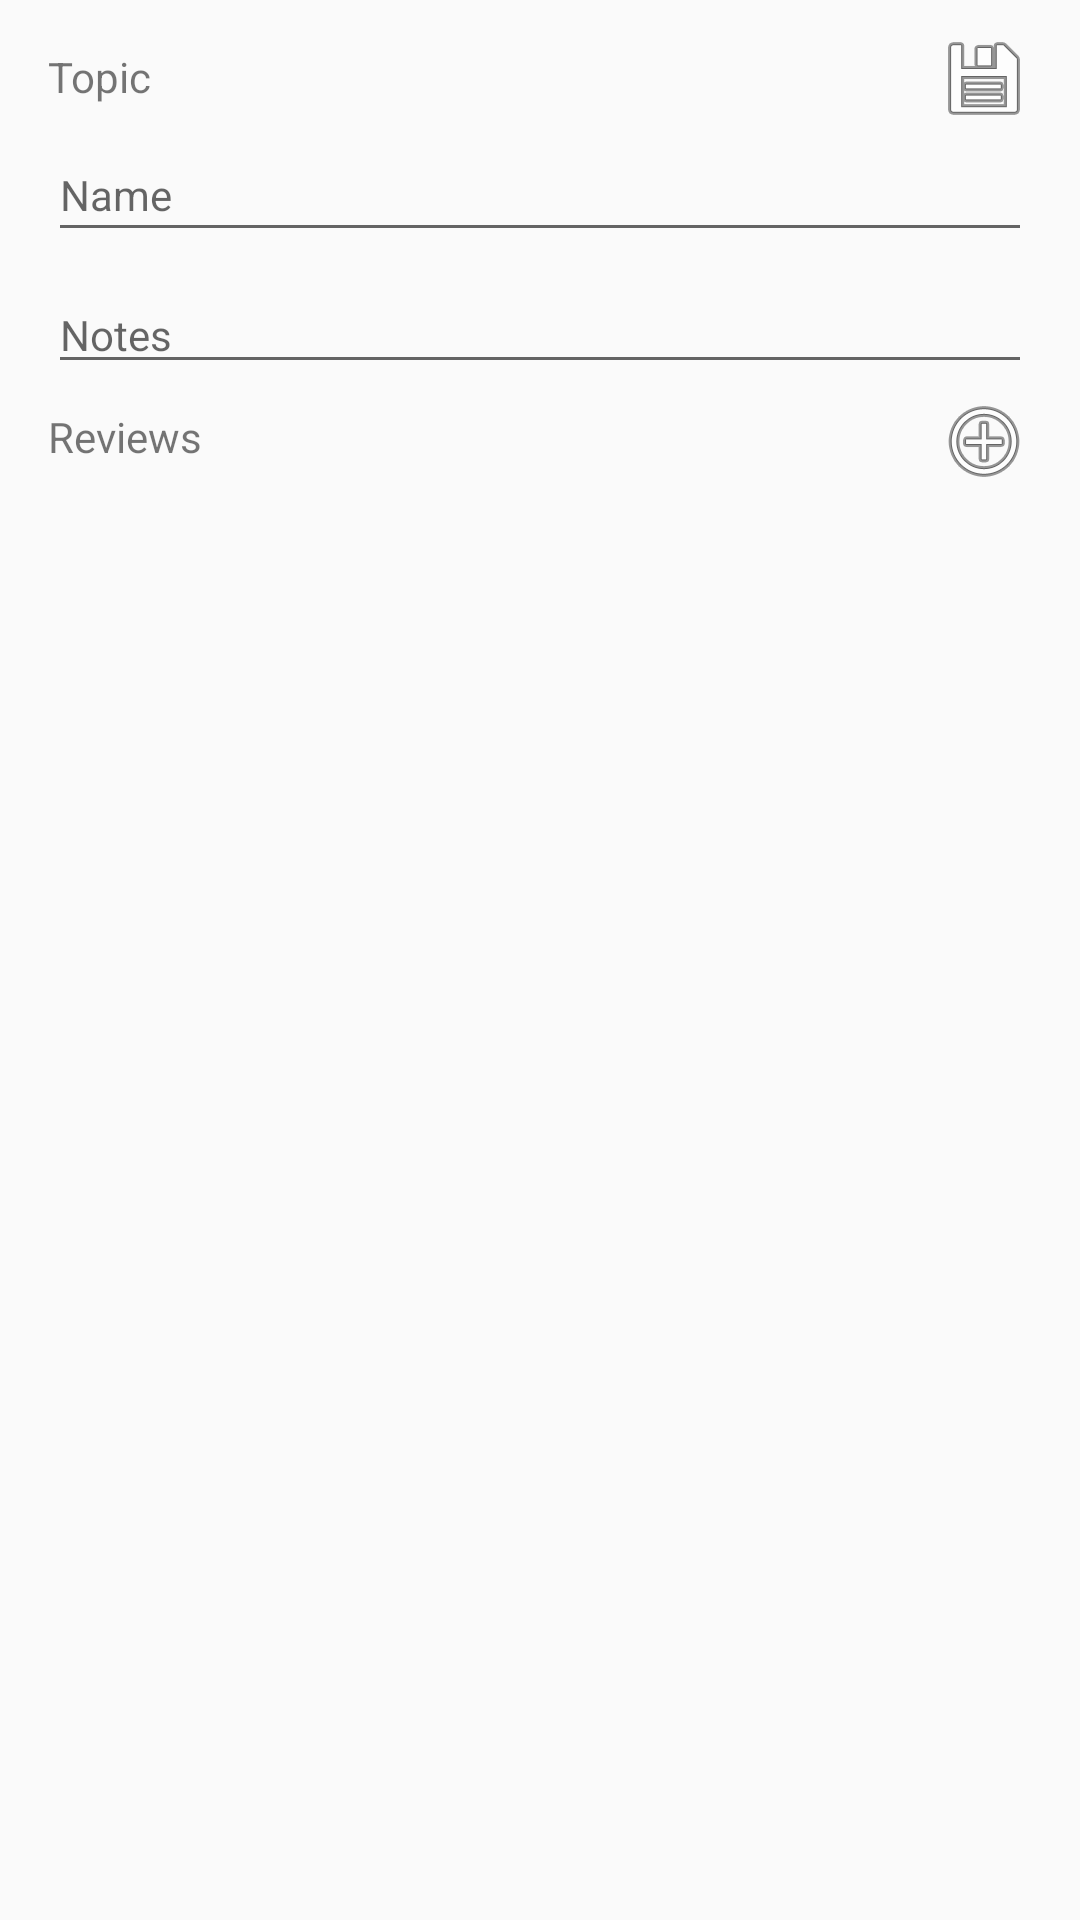

Where icons sit on this 1080×1920 app screen, as {"left": x1, "top": y1, "right": x2, "bottom": y2}:
add: {"left": 948, "top": 406, "right": 1020, "bottom": 477}
save: {"left": 948, "top": 42, "right": 1020, "bottom": 115}
